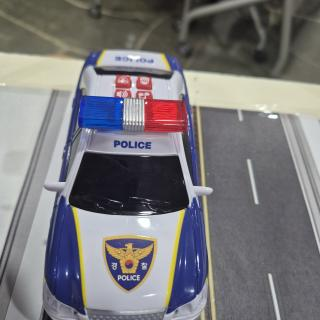Police_car: (43, 50, 212, 320)
